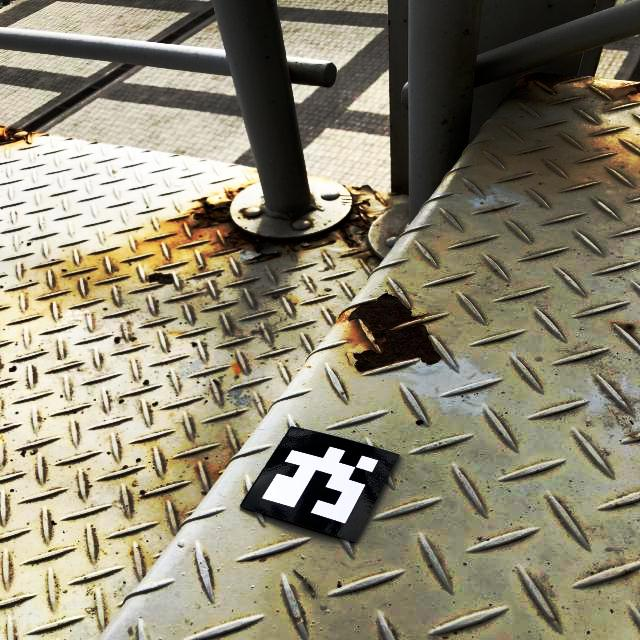Corrosion: (189, 186, 380, 261), (348, 293, 441, 372), (522, 73, 582, 93), (0, 125, 42, 146), (149, 273, 174, 284), (622, 83, 640, 97)
